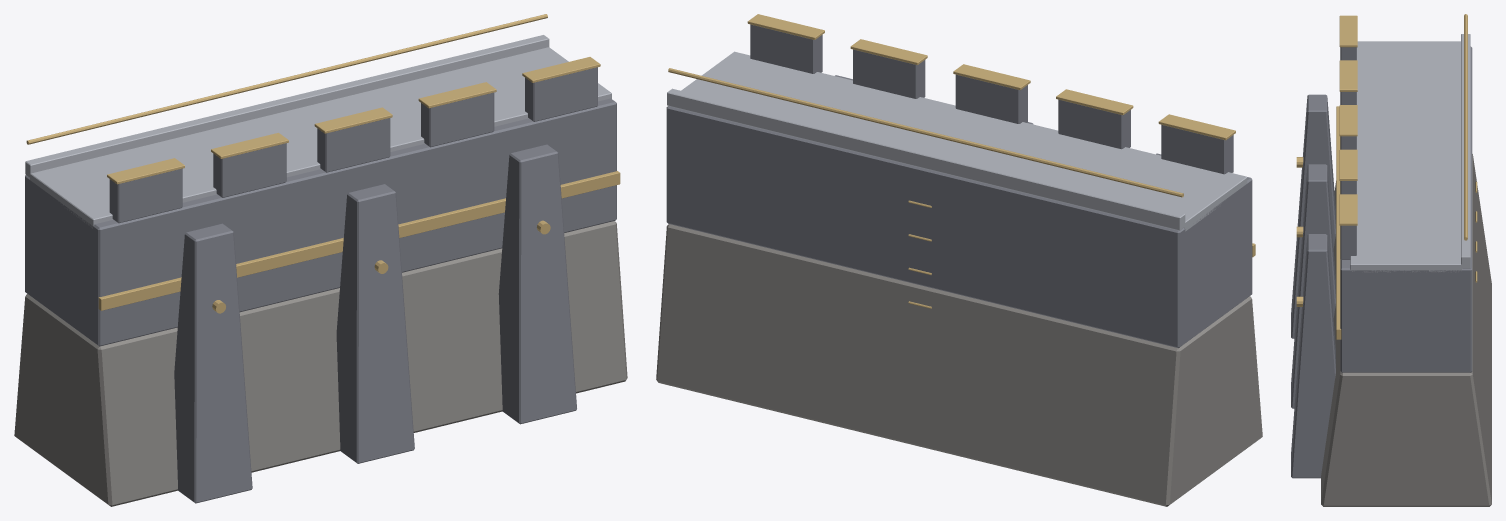
File: gearforge_wall_straight.glb
3 renders of one model, left to right at view 1: azimuth 30°, elevation 25°; view 2: azimuth 150°, elevation 25°; view 3: azimuth 270°, elevation 25°, orthographic. The views are drawn at different scales.
Visible parts, largest first — view 1: gearforge_wall_straight_lod0; view 2: gearforge_wall_straight_lod0; view 3: gearforge_wall_straight_lod0.
Boxes of the visible parts, x1=… form: gearforge_wall_straight_lod0: x1=14, y1=14, x2=627, y2=506; gearforge_wall_straight_lod0: x1=656, y1=14, x2=1262, y2=506; gearforge_wall_straight_lod0: x1=1291, y1=14, x2=1491, y2=506.
Size of the model in its own units: 16 by 9.26 by 6.09.
